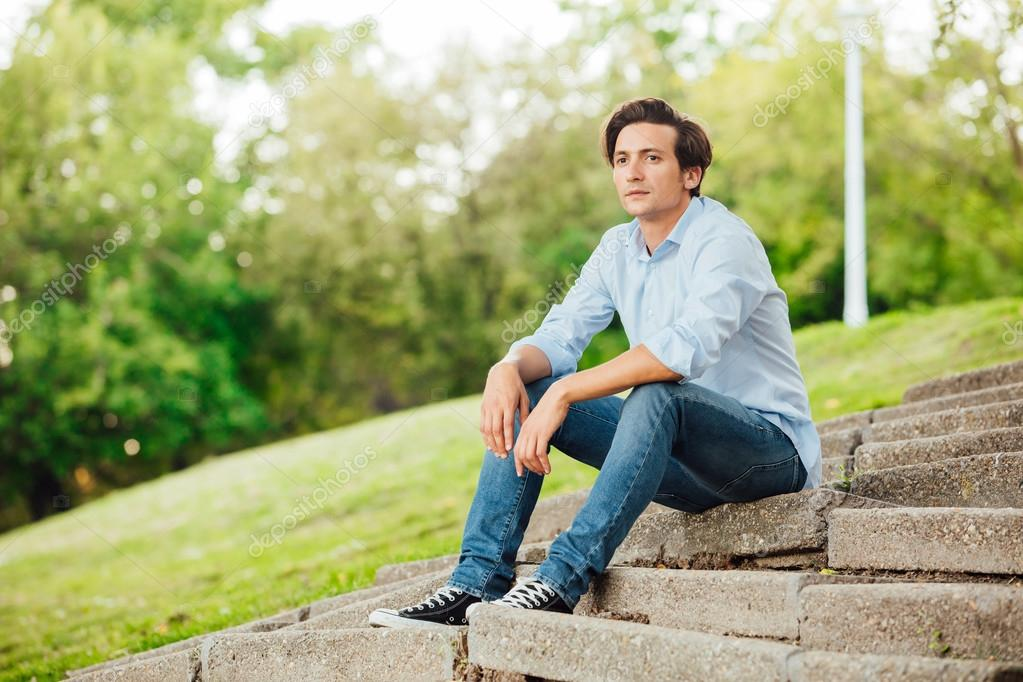person: (354, 54, 842, 650)
